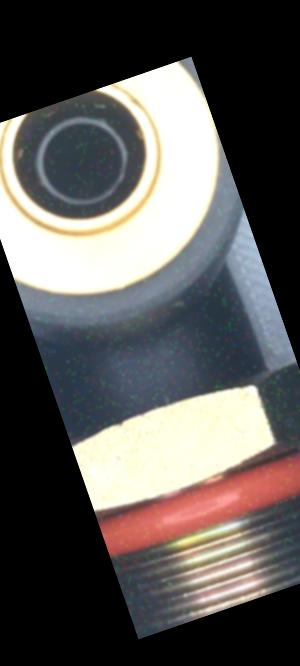joint line: (131, 336, 164, 384)
white mark: (158, 387, 177, 411)
